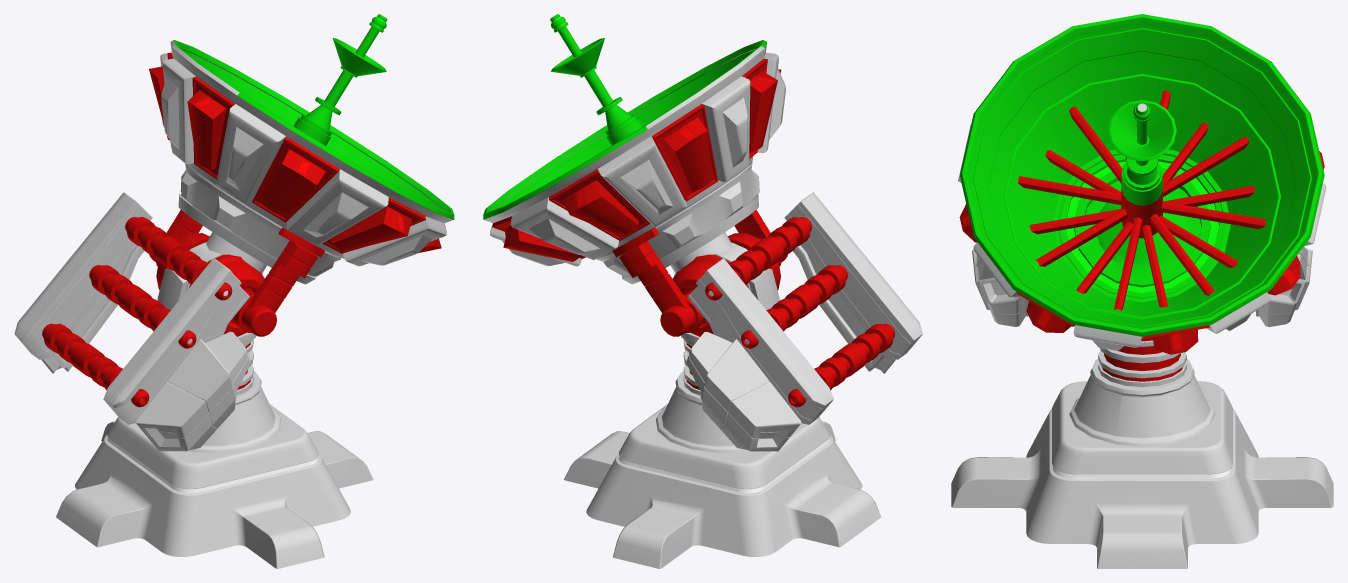
File: SM_Anthena_New.fbx
3 views of the same model, side by side, from view 1: azimuth 30°, elevation 25°; view 2: azimuth 150°, elevation 25°; view 3: azimuth 270°, elevation 25° (orthographic). The views are drawn at different scales.
Parts seen in each view (by area): view 1: Anthena_Base, Anthena_dish; view 2: Anthena_Base, Anthena_dish; view 3: Anthena_dish, Anthena_Base.
Boxes of the visible parts, <box> form: Anthena_Base: <box>14,192,373,568</box>; Anthena_dish: <box>149,14,454,284</box>; Anthena_Base: <box>564,192,922,568</box>; Anthena_dish: <box>483,14,785,284</box>; Anthena_dish: <box>958,14,1326,354</box>; Anthena_Base: <box>951,247,1333,568</box>.
Size of the model in its own units: 4683 by 3912 by 5423.
